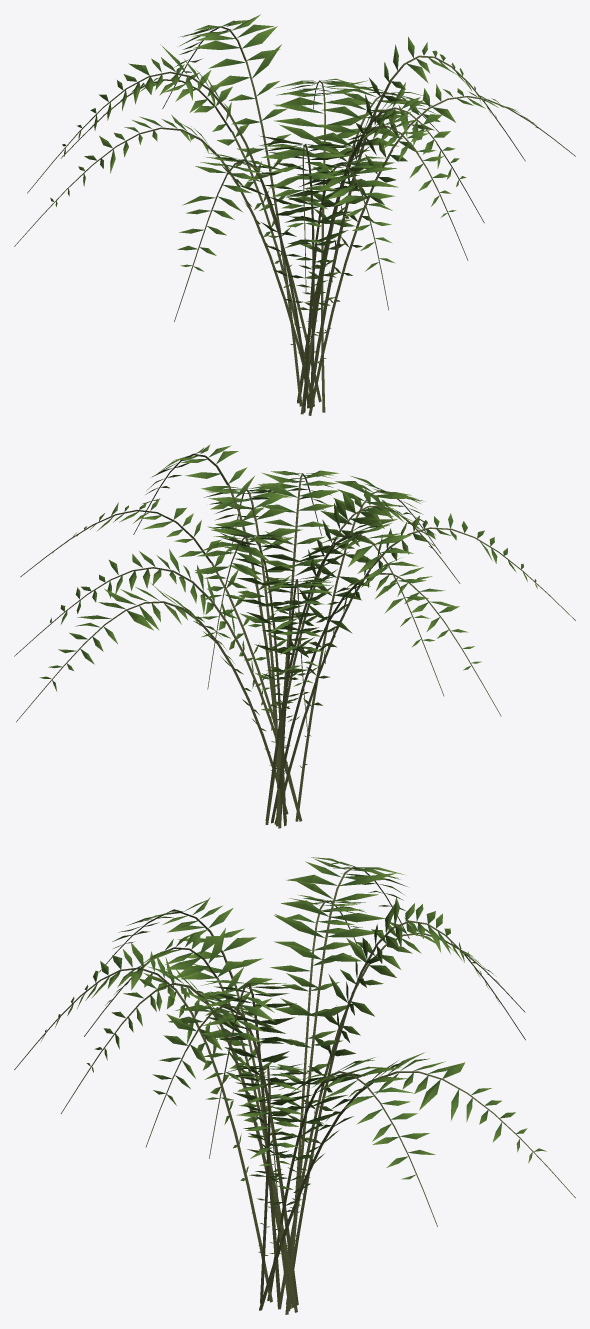
Rendered from forest_fern_001_c_LOD1.gltf.
3 views of the same model, one above another, from view 1: azimuth 30°, elevation 25°; view 2: azimuth 150°, elevation 25°; view 3: azimuth 270°, elevation 25° (orthographic). The views are drawn at different scales.
Visible parts, largest first — view 1: forest_fern_001_c_LOD1; view 2: forest_fern_001_c_LOD1; view 3: forest_fern_001_c_LOD1.
Part boxes in pixels (x1=…): forest_fern_001_c_LOD1: x1=14, y1=14, x2=575, y2=415; forest_fern_001_c_LOD1: x1=14, y1=444, x2=575, y2=828; forest_fern_001_c_LOD1: x1=14, y1=857, x2=575, y2=1314.
Size of the model in its own units: 3.31 by 2.09 by 2.77.
1 material, 1 textured.
